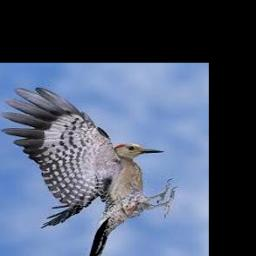Woodpecker: (1, 88, 177, 256)
